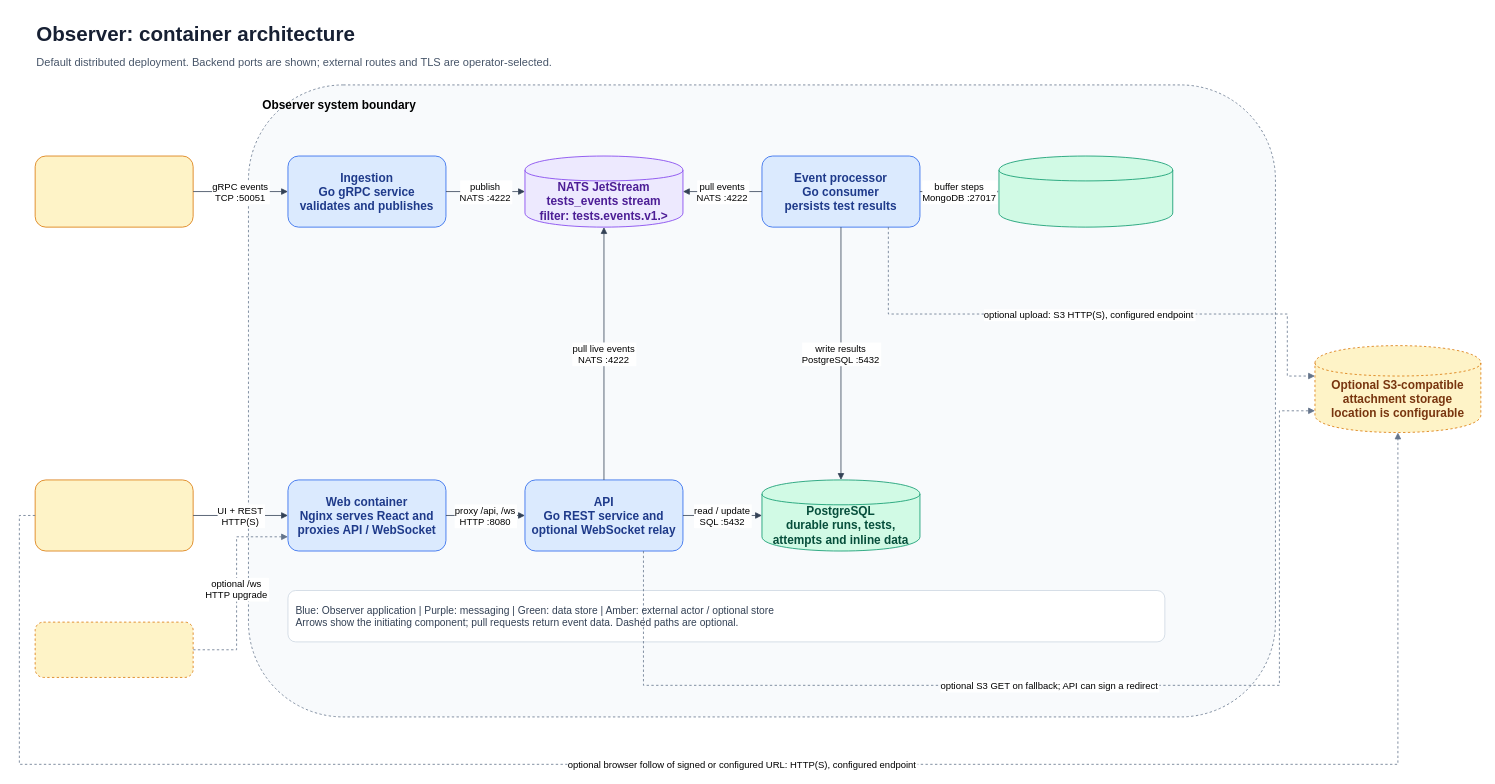
Some shapes in this 1495 by 784 pixel diagram are drawn without their labels. Each missing label, with the centre of its shape:
"CI / test runners Playwright reporter or compatible gRPC client" belongs at point 113,191.
"Engineer / browser React UI and REST polling" belongs at point 113,515.
"MongoDB transient live_step_buffers" belongs at point 1085,191.
"Optional WebSocket client live event stream" belongs at point 113,649.
